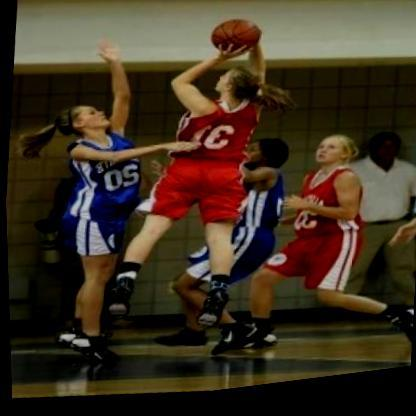basketball: (208, 15, 267, 66)
